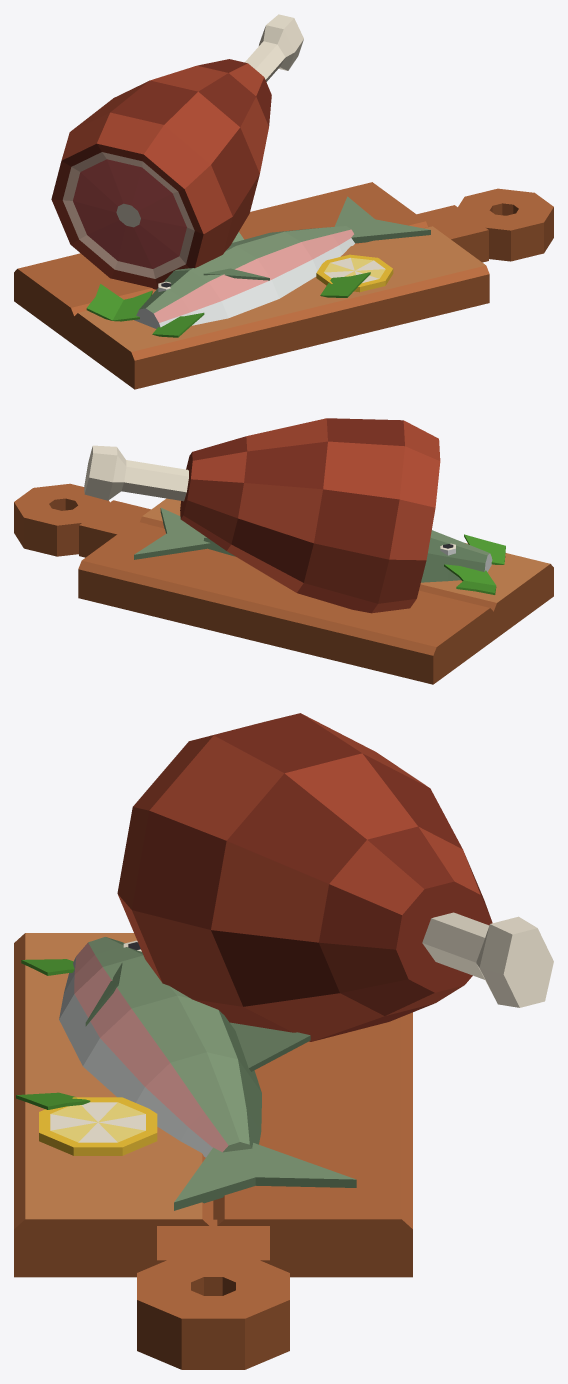
File: FMS_Food_Meat_Fish.fbx
3 views of the same model, one above another, from view 1: azimuth 30°, elevation 25°; view 2: azimuth 150°, elevation 25°; view 3: azimuth 270°, elevation 25° (orthographic). The views are drawn at different scales.
Parts seen in each view (by area): view 1: item_food_meat_fish; view 2: item_food_meat_fish; view 3: item_food_meat_fish.
Boxes of the visible parts, <box> form: item_food_meat_fish: <box>14,14,553,389</box>; item_food_meat_fish: <box>14,418,553,684</box>; item_food_meat_fish: <box>14,713,553,1369</box>.
Size of the model in its own units: 0.4767 by 0.1963 by 0.287.
Materials: 1 (1 with a texture image).
